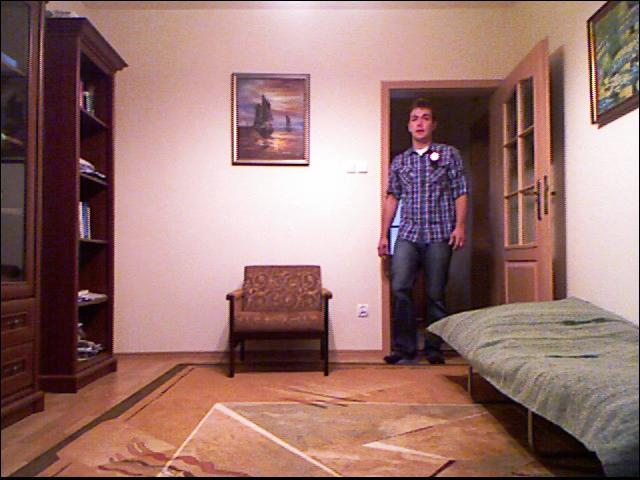walking: (379, 90, 473, 377)
